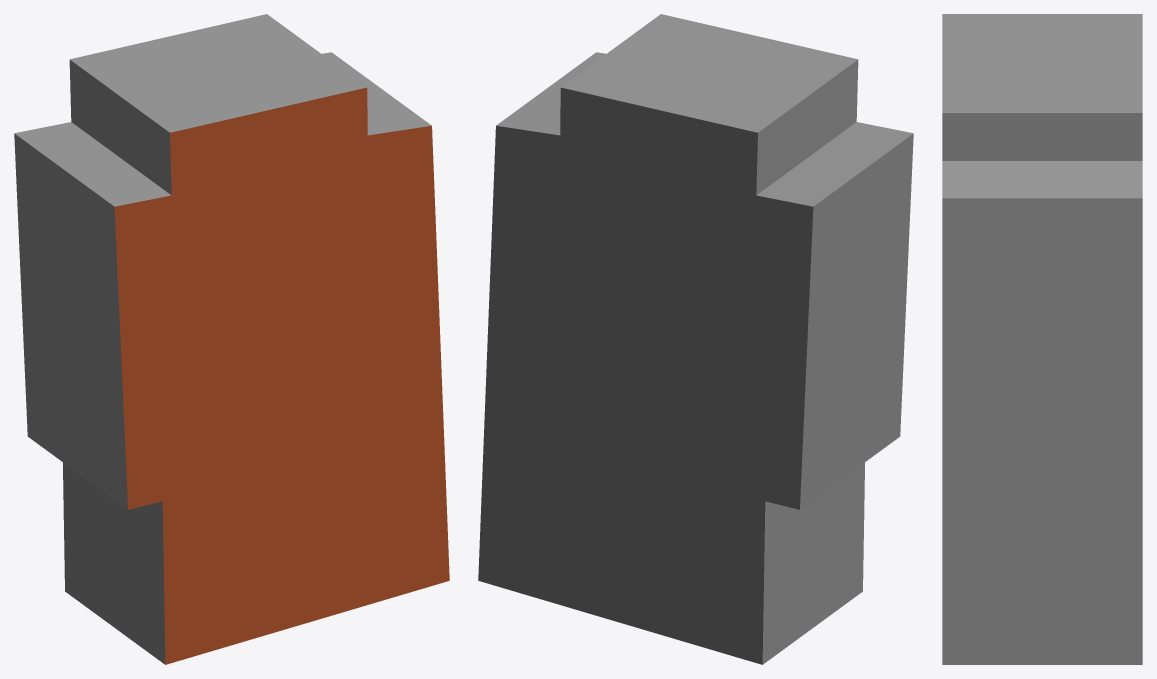
The model's file is construction_2577_assumed_A_Casa_h6m.obj.
3 views of the same model, side by side, from view 1: azimuth 30°, elevation 25°; view 2: azimuth 150°, elevation 25°; view 3: azimuth 270°, elevation 25° (orthographic).
Visible parts, largest first — view 1: construction_2577_assumed_A_Casa; view 2: construction_2577_assumed_A_Casa; view 3: construction_2577_assumed_A_Casa.
Part boxes in pixels (x1,y1,x2,y2): construction_2577_assumed_A_Casa: (14, 14, 449, 664); construction_2577_assumed_A_Casa: (478, 14, 913, 664); construction_2577_assumed_A_Casa: (942, 14, 1142, 664).
Bounding box in the file's own units: 11.57 × 17.51 × 6.
